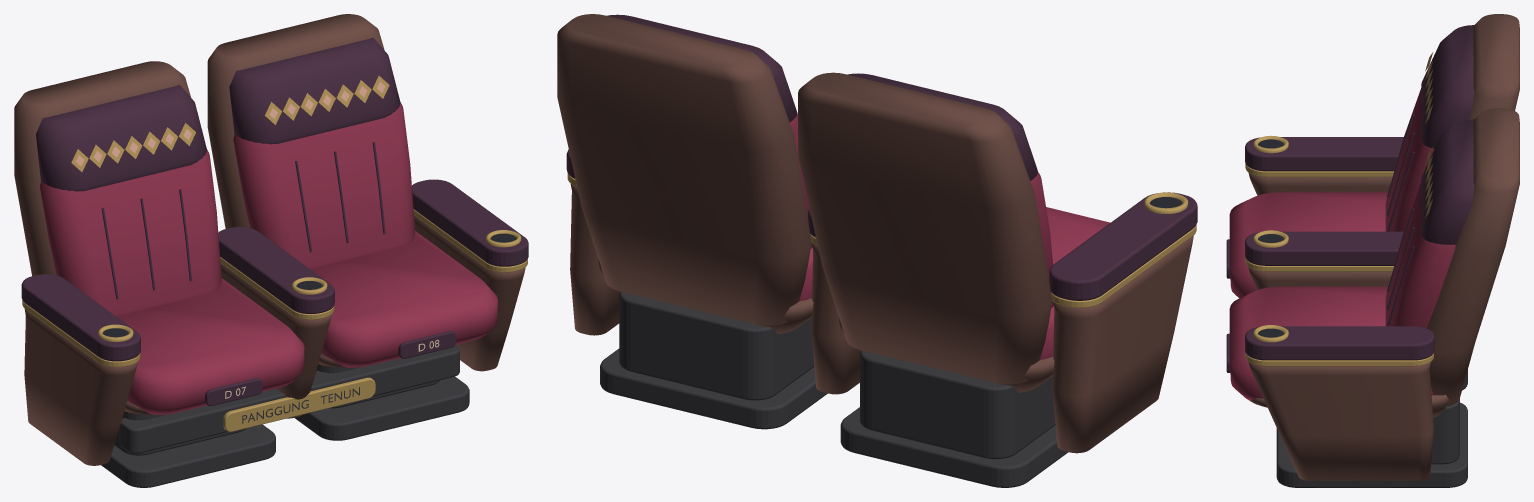
3 renders of one model, left to right at view 1: azimuth 30°, elevation 25°; view 2: azimuth 150°, elevation 25°; view 3: azimuth 270°, elevation 25°, orthographic. The views are drawn at different scales.
Visible parts, largest first — view 1: Panggung Tenun | Cinema pair - Upholstery, Panggung Tenun | Cinema pair - Arm consoles, Panggung Tenun | Cinema pair - Cabinetry, Panggung Tenun | Cinema pair - Seat shells, Panggung Tenun | Cinema pair - Embroidery, Panggung Tenun | Cinema pair - Shell, Panggung Tenun | Cinema pair - Graphics; view 2: Panggung Tenun | Cinema pair - Seat shells, Panggung Tenun | Cinema pair - Cabinetry, Panggung Tenun | Cinema pair - Arm consoles, Panggung Tenun | Cinema pair - Upholstery; view 3: Panggung Tenun | Cinema pair - Arm consoles, Panggung Tenun | Cinema pair - Upholstery, Panggung Tenun | Cinema pair - Seat shells, Panggung Tenun | Cinema pair - Cabinetry, Panggung Tenun | Cinema pair - Embroidery.
Part boxes in pixels (x1,y1,x2,y2): Panggung Tenun | Cinema pair - Upholstery: (36, 37, 497, 414); Panggung Tenun | Cinema pair - Arm consoles: (21, 179, 528, 465); Panggung Tenun | Cinema pair - Cabinetry: (101, 345, 469, 487); Panggung Tenun | Cinema pair - Seat shells: (14, 14, 490, 414); Panggung Tenun | Cinema pair - Embroidery: (71, 76, 389, 299); Panggung Tenun | Cinema pair - Shell: (223, 377, 375, 431); Panggung Tenun | Cinema pair - Graphics: (204, 330, 456, 423); Panggung Tenun | Cinema pair - Seat shells: (557, 14, 1054, 392); Panggung Tenun | Cinema pair - Cabinetry: (600, 291, 1068, 487); Panggung Tenun | Cinema pair - Arm consoles: (566, 149, 1197, 453); Panggung Tenun | Cinema pair - Upholstery: (606, 14, 1110, 359); Panggung Tenun | Cinema pair - Arm consoles: (1245, 135, 1434, 480); Panggung Tenun | Cinema pair - Upholstery: (1229, 25, 1474, 400); Panggung Tenun | Cinema pair - Seat shells: (1249, 14, 1519, 417); Panggung Tenun | Cinema pair - Cabinetry: (1276, 370, 1467, 487); Panggung Tenun | Cinema pair - Embroidery: (1387, 52, 1433, 326).
Size of the model in its own units: 1.91 by 1.32 by 1.14.
